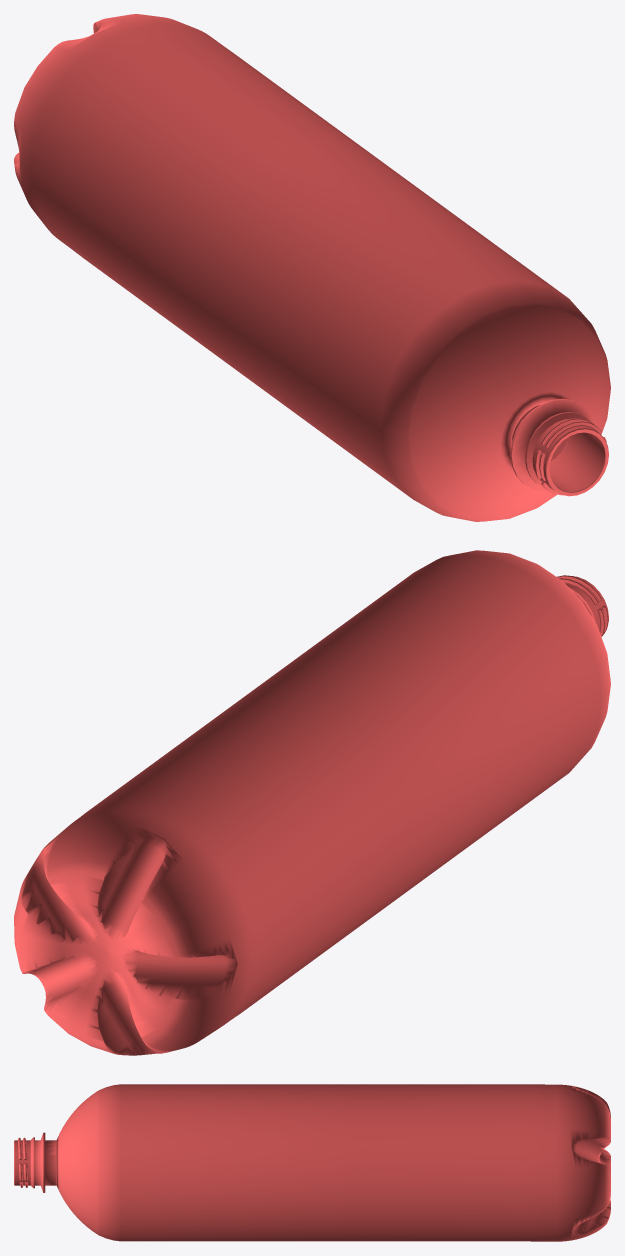
File: model_align.obj
The picture shows the model from 3 angles, top to bottom: view 1: azimuth 30°, elevation 25°; view 2: azimuth 150°, elevation 25°; view 3: azimuth 270°, elevation 25°; orthographic projection. The views are drawn at different scales.
Visible parts, largest first — view 1: mesh1_mesh1-geometry; view 2: mesh1_mesh1-geometry; view 3: mesh1_mesh1-geometry.
Part boxes in pixels (x1,y1,x2,y2): mesh1_mesh1-geometry: [14, 14, 610, 521]; mesh1_mesh1-geometry: [14, 550, 610, 1055]; mesh1_mesh1-geometry: [14, 1084, 610, 1241].
Bounding box in the file's own units: 0.0403 × 0.0403 × 0.1525.
